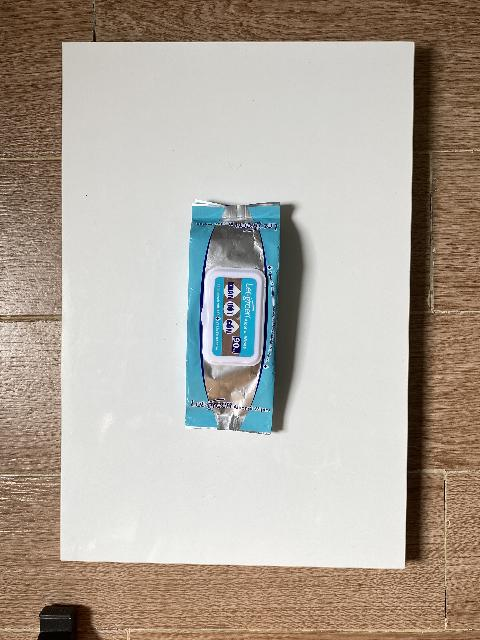Let-green_alcohol_wipes: (185, 198, 280, 435)
